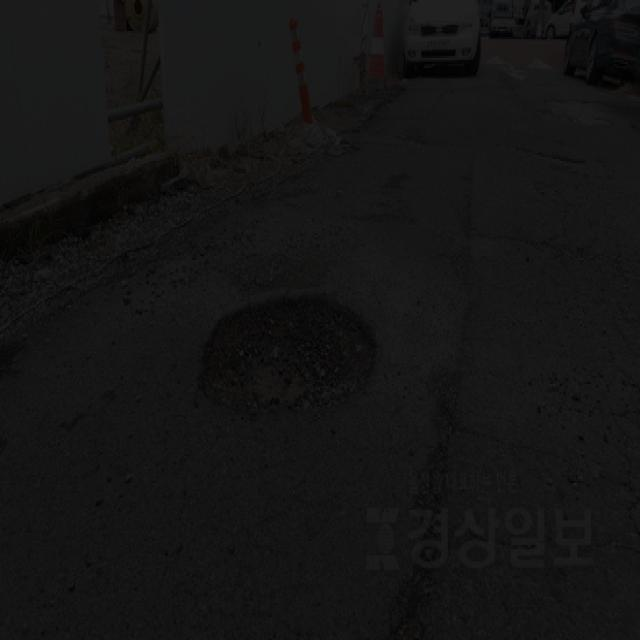pothole: (183, 258, 410, 470)
